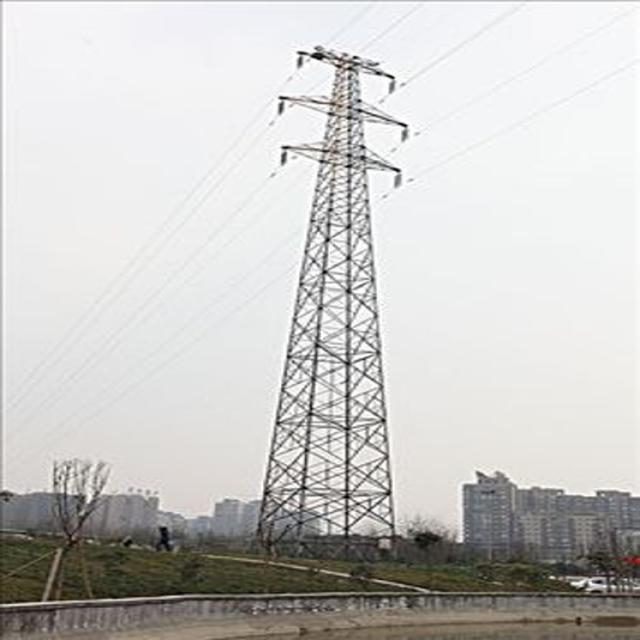non-critical vegetation: (241, 38, 413, 558)
